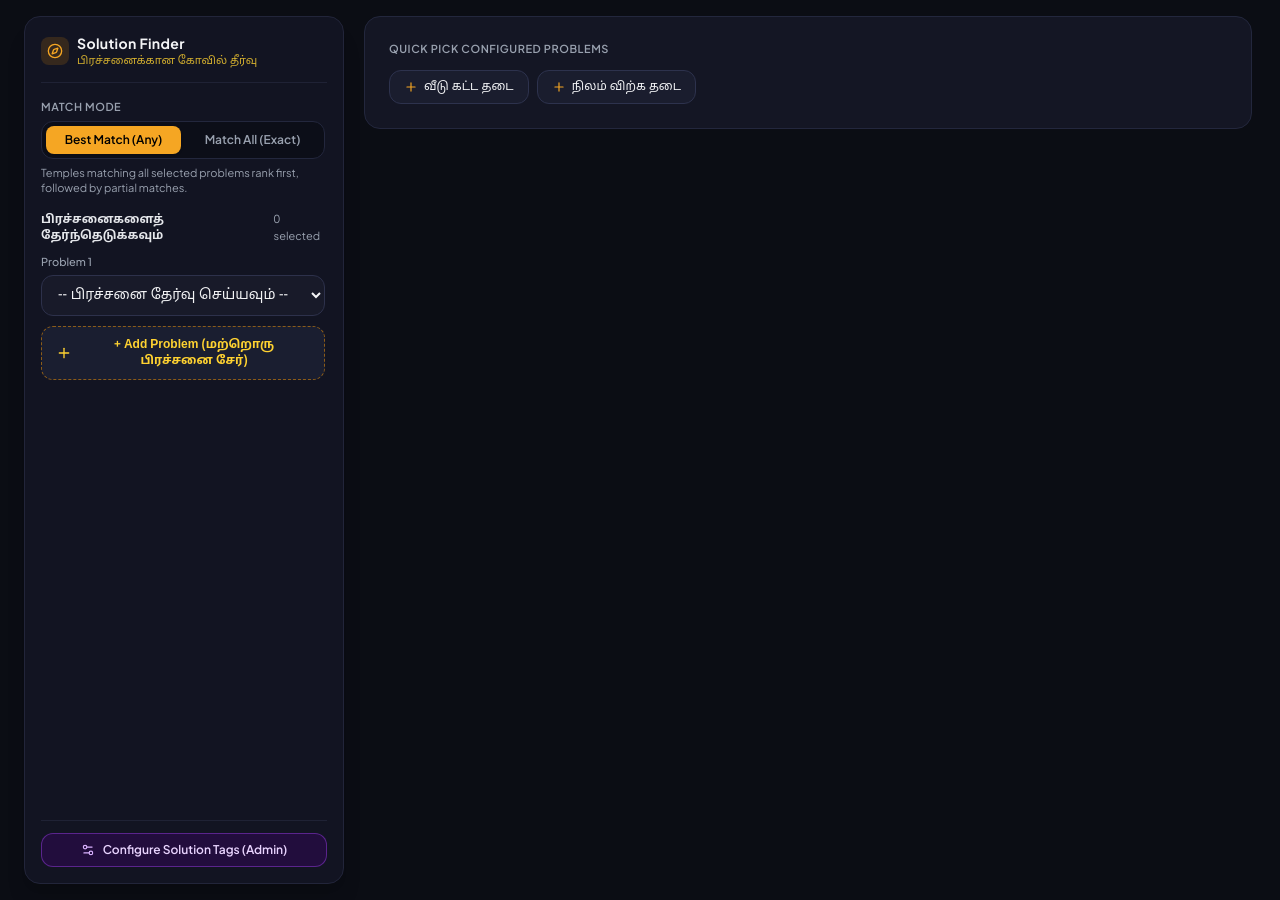
Test case: Phase 2: Astrologer Solution Finder & Problem Tags Suite › opens Configure Solution Tags modal for Admin inside SolutionTab and supports CRUD in AdminSolutionTagsPanel
The width and height of the screenshot is (1280, 900).
Later steps or results of the test are not shown.
Click the button "Configure Solution Tags (Admin)" at [184, 850], box [41,833,327,867]
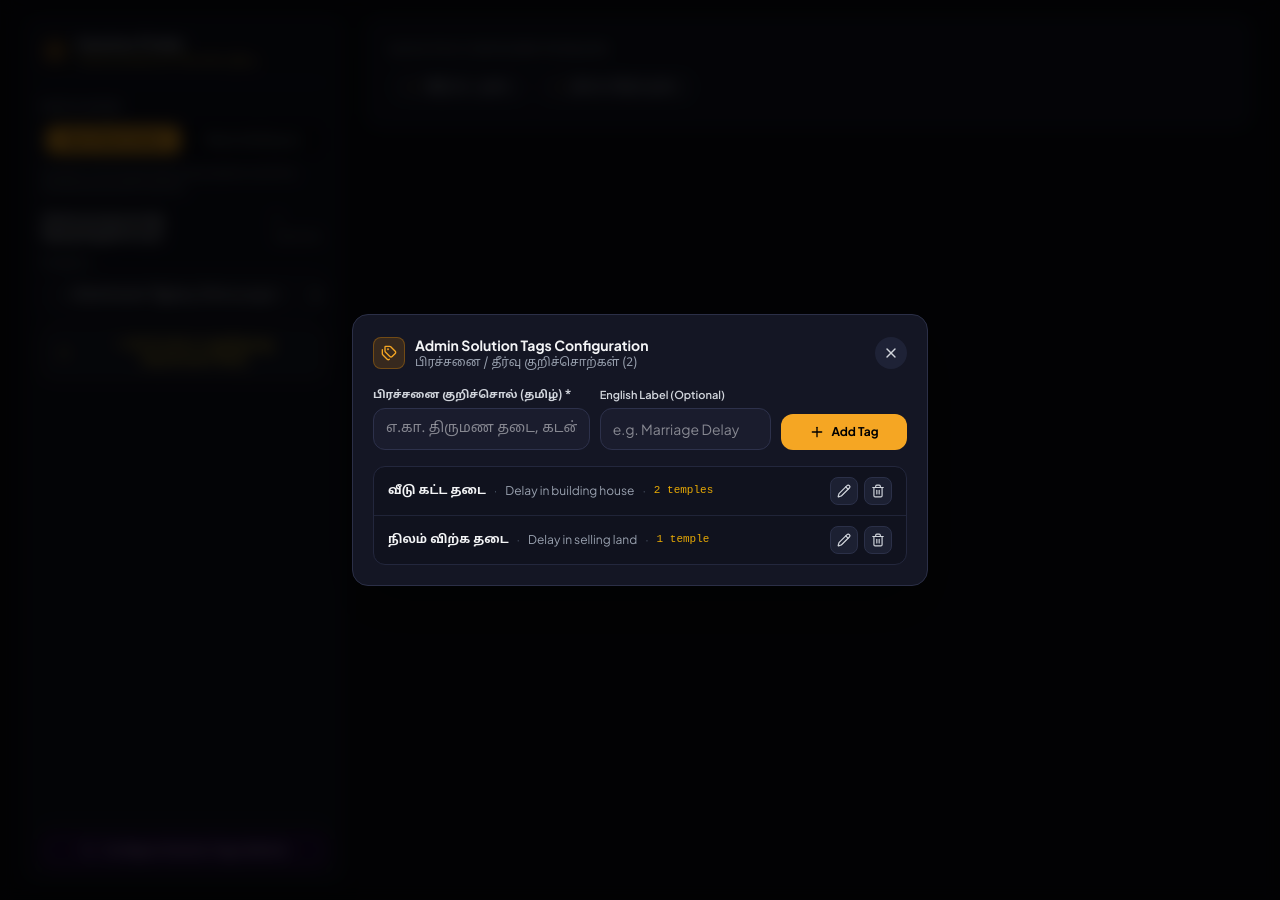
Expected: the dialog named "Configure Solution Tags" is shown, [352,314,928,586]
Expected: the text "2 temples" is shown, [654,483,713,498]
